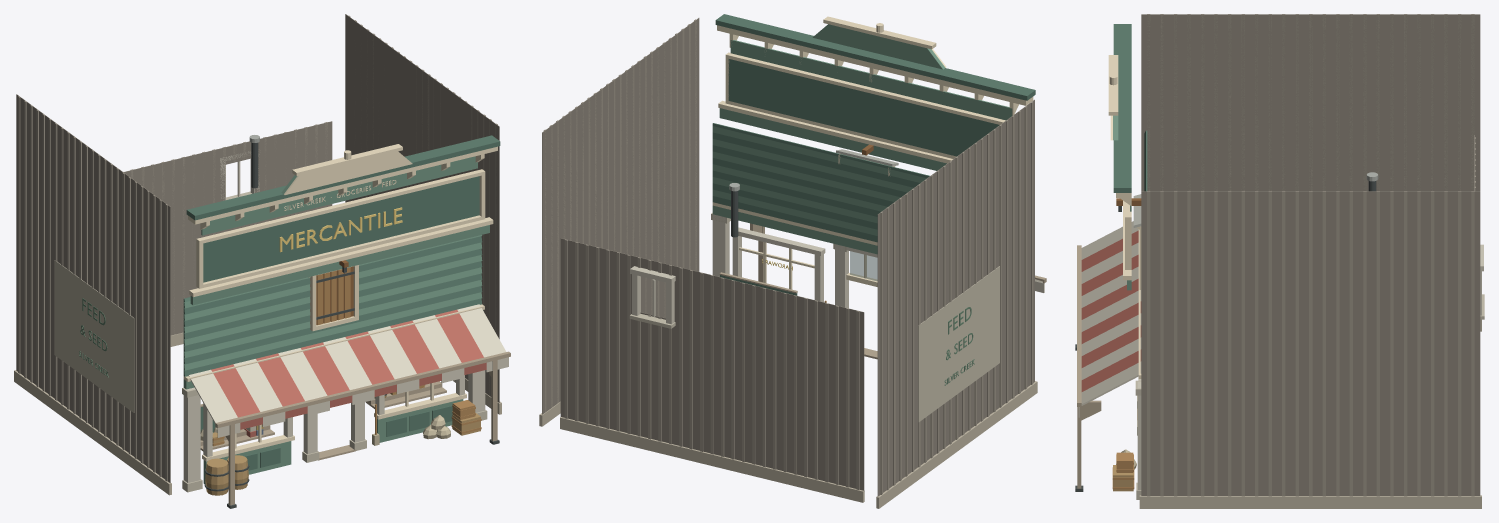
File: general-store.glb
3 views of the same model, side by side, from view 1: azimuth 30°, elevation 25°; view 2: azimuth 150°, elevation 25°; view 3: azimuth 270°, elevation 25° (orthographic). The views are drawn at different scales.
Parts seen in each view (by area): view 1: General Store paint, General Store wood, General Store stone, General Store iron; view 2: General Store paint, General Store wood, General Store stone, General Store glass; view 3: General Store paint, General Store wood, General Store stone.
Boxes of the visible parts, x1,y1,x2,y2 form: General Store paint: [16, 14, 508, 492]; General Store wood: [79, 144, 510, 505]; General Store stone: [14, 332, 501, 495]; General Store iron: [204, 135, 499, 508]; General Store paint: [542, 14, 1044, 496]; General Store wood: [712, 16, 1046, 385]; General Store stone: [539, 381, 1037, 508]; General Store glass: [850, 251, 877, 280]; General Store paint: [1078, 14, 1484, 499]; General Store wood: [1077, 55, 1141, 491]; General Store stone: [1139, 319, 1481, 508].
Size of the model in its own units: 10.64 by 9.53 by 10.29.
